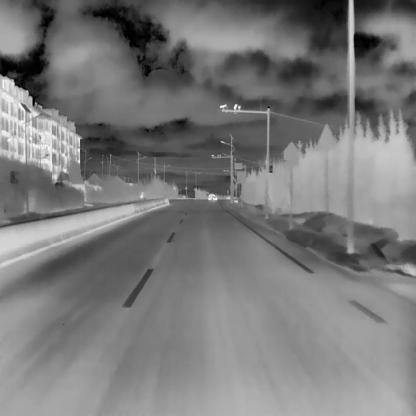car: (207, 190, 218, 200)
